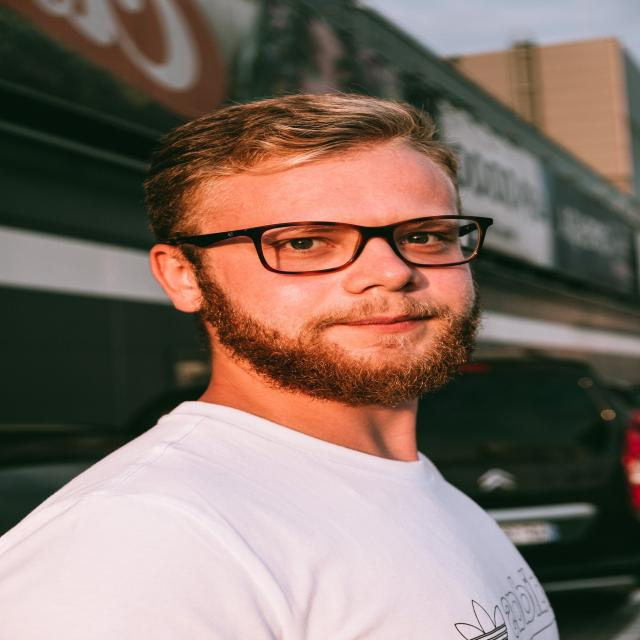adult: (0, 92, 543, 640)
